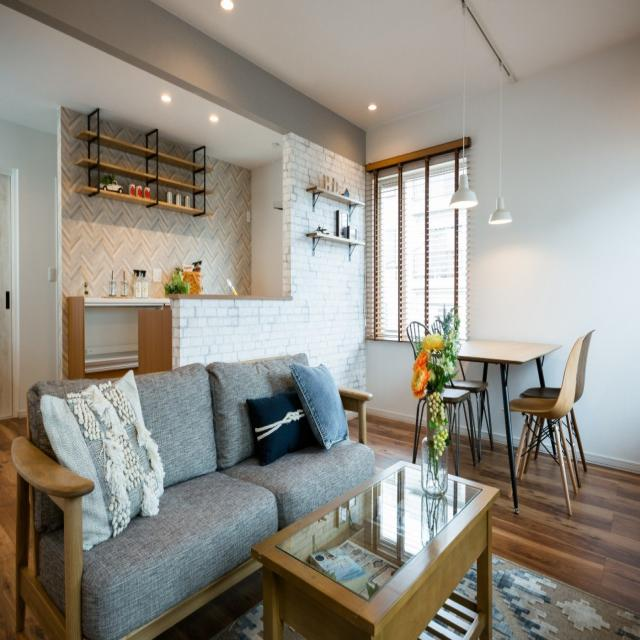natural chair: (511, 336, 596, 503), (406, 318, 476, 468)
natural desk: (258, 459, 508, 632)
natural sofa: (14, 346, 374, 524)
